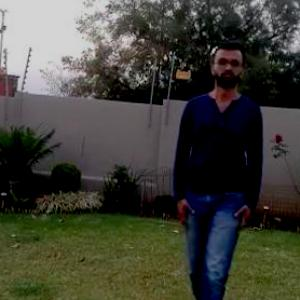follow: (173, 51, 258, 299)
